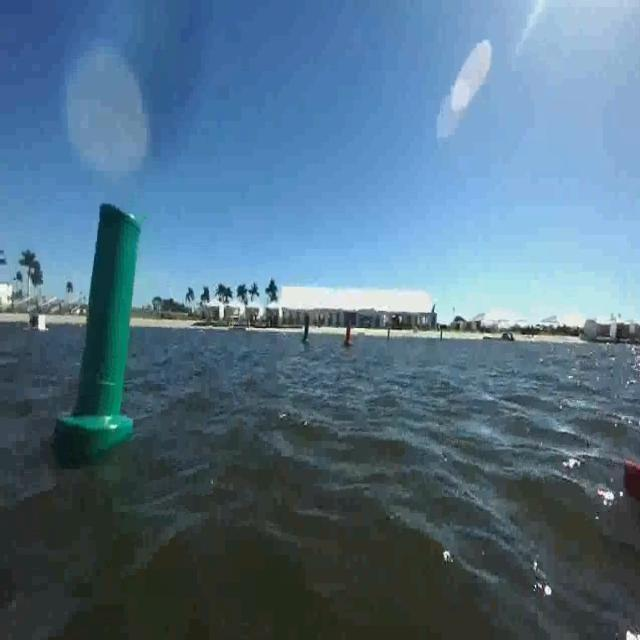green-column-buoy: (60, 208, 142, 449), (302, 312, 313, 344)
red-column-buoy: (345, 323, 354, 348)
